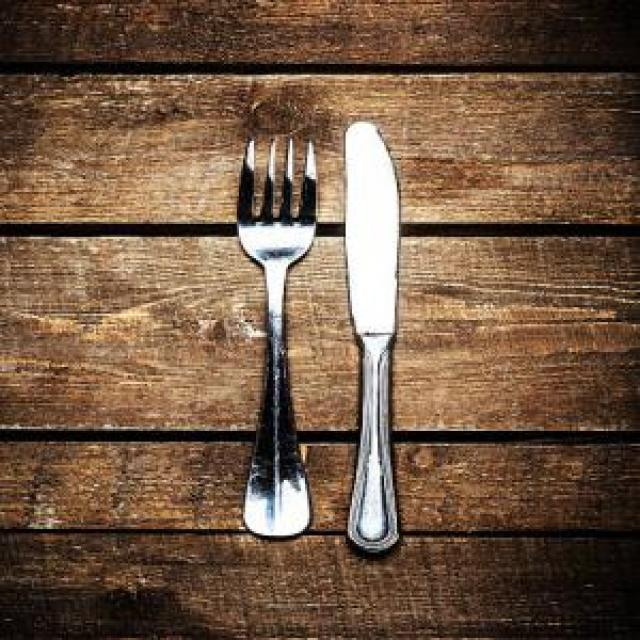knife: (322, 117, 403, 561)
